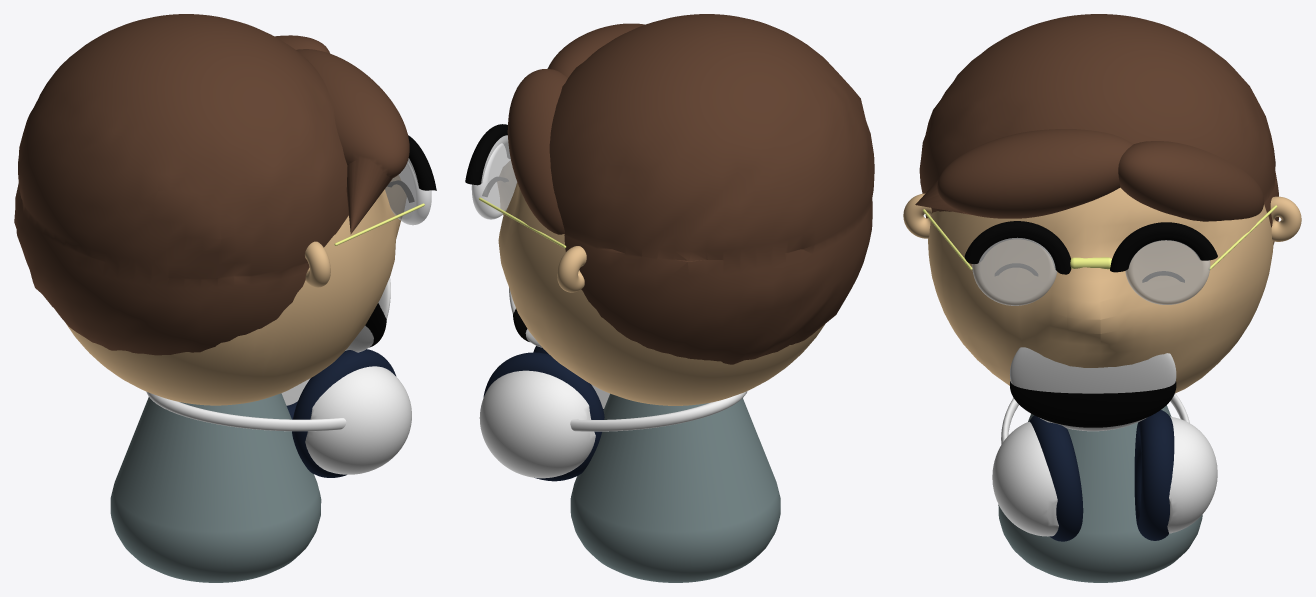
Rendered from aboutMeModel.glb.
3 views of the same model, side by side, from view 1: azimuth 30°, elevation 25°; view 2: azimuth 150°, elevation 25°; view 3: azimuth 270°, elevation 25° (orthographic). The views are drawn at different scales.
Parts seen in each view (by area): view 1: Sphere 1 & Sphere 2, body, head, Sphere 3 & Cone 1, Box 5 & Sphere 4, hpcushionleft, Box 4 & Torus 2, leftglasseslens, leftEar, Tube & Box 7, Box 3 & Sphere; view 2: Sphere 1 & Sphere 2, body, head, Box 5 & Sphere 4, righthairlock, hpcushionright, rightglasslens, Box 4 & Torus 2, Sphere 3 & Cone 1, Tube & Box 7, rightEar; view 3: head, Sphere 1 & Sphere 2, Sphere 3 & Cone 1, body, Box 5 & Sphere 4 (×2), righthairlock, Box 3 & Sphere, Tube & Box 7 (×2), Box 2 & Sphere 6, hpcushionright, leftglasseslens, rightglasslens (+4 smaller).
Part boxes in pixels (<box>): Sphere 1 & Sphere 2: <box>14,14,348,355</box>; body: <box>110,393,321,582</box>; head: <box>66,175,406,405</box>; Sphere 3 & Cone 1: <box>296,49,409,234</box>; Box 5 & Sphere 4: <box>305,366,411,474</box>; hpcushionleft: <box>292,349,396,477</box>; Box 4 & Torus 2: <box>146,391,346,431</box>; leftglasseslens: <box>385,158,431,225</box>; leftEar: <box>305,241,330,287</box>; Tube & Box 7: <box>408,135,436,190</box>; Box 3 & Sphere: <box>345,277,390,352</box>; Sphere 1 & Sphere 2: <box>549,14,874,364</box>; body: <box>570,393,780,582</box>; head: <box>497,160,824,405</box>; Box 5 & Sphere 4: <box>479,370,595,478</box>; righthairlock: <box>507,68,567,234</box>; hpcushionright: <box>483,352,604,481</box>; rightglasslens: <box>471,135,517,219</box>; Box 4 & Torus 2: <box>570,391,747,431</box>; Sphere 3 & Cone 1: <box>548,23,644,77</box>; Tube & Box 7: <box>465,124,510,185</box>; rightEar: <box>557,246,586,292</box>; head: <box>928,187,1273,393</box>; Sphere 1 & Sphere 2: <box>919,14,1278,244</box>; Sphere 3 & Cone 1: <box>915,129,1133,218</box>; body: <box>998,405,1202,582</box>; Box 5 & Sphere 4 (×2): <box>992,416,1217,536</box>; righthairlock: <box>1118,141,1264,221</box>; Box 3 & Sphere: <box>1010,347,1176,431</box>; Tube & Box 7 (×2): <box>964,221,1217,274</box>; Box 2 & Sphere 6: <box>1010,381,1176,427</box>; hpcushionright: <box>1134,410,1174,540</box>; leftglasseslens: <box>972,237,1057,305</box>; rightglasslens: <box>1125,240,1210,304</box>.
Size of the model in its own units: 0.1124 by 0.1621 by 0.1135.
